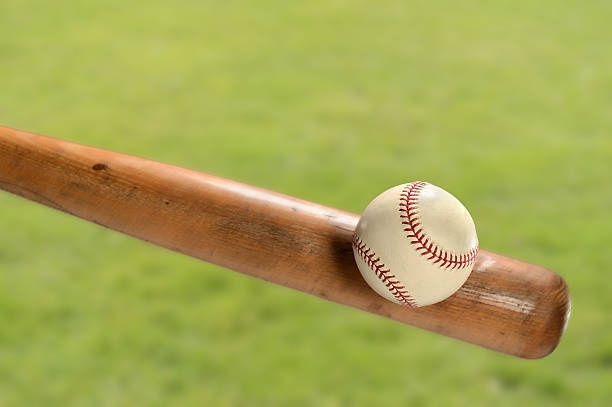bita: (1, 129, 567, 355)
